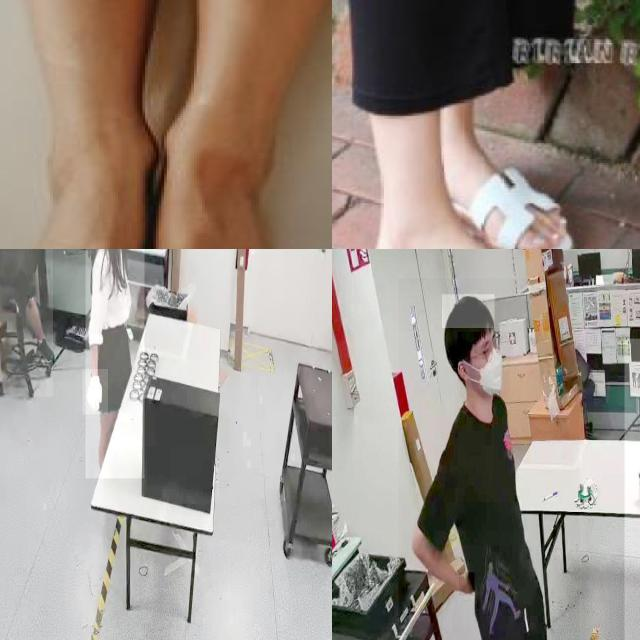Barefoots: (0, 133, 304, 249)
Sandals: (347, 184, 603, 249)
face_mask: (458, 332, 510, 398)
glasses: (481, 326, 505, 366)
hand_glove: (82, 369, 109, 415)
hand_noglove: (459, 572, 475, 596)
head_nohelmet: (442, 294, 495, 329)
person: (398, 278, 579, 640), (85, 249, 144, 479), (0, 249, 53, 397)
shoes: (32, 332, 58, 368)
